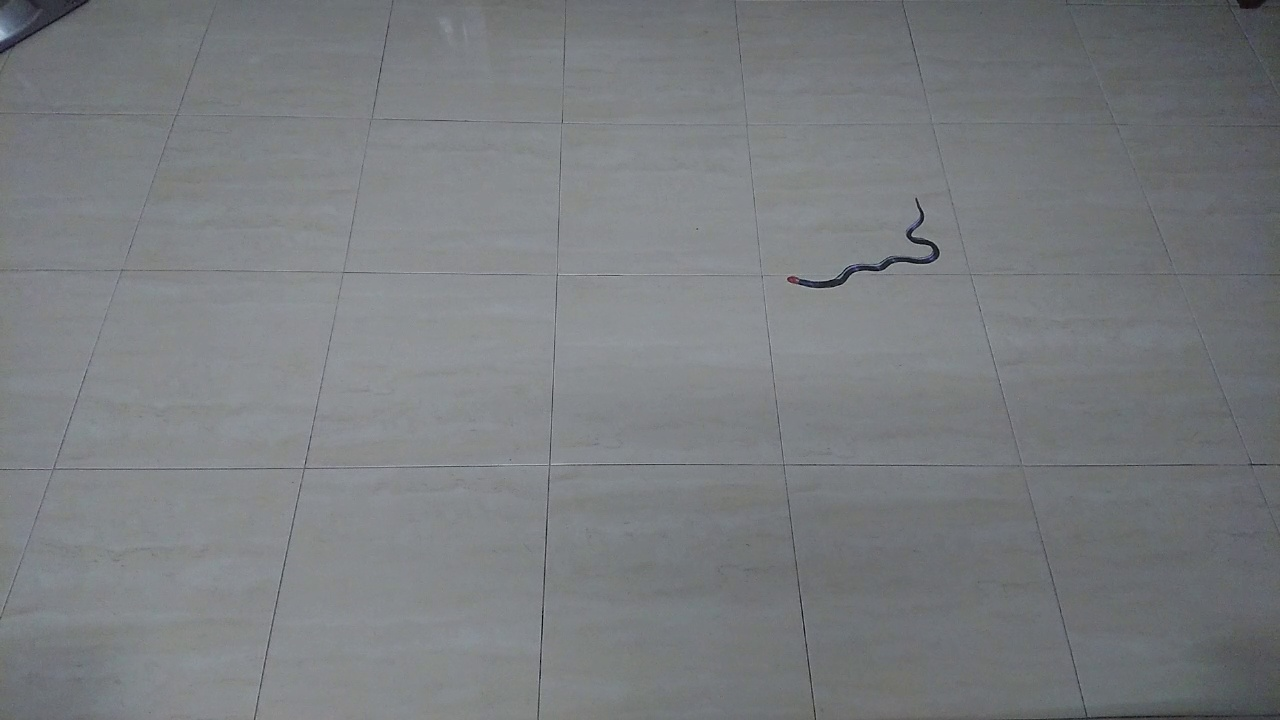snake: (773, 185, 953, 305)
